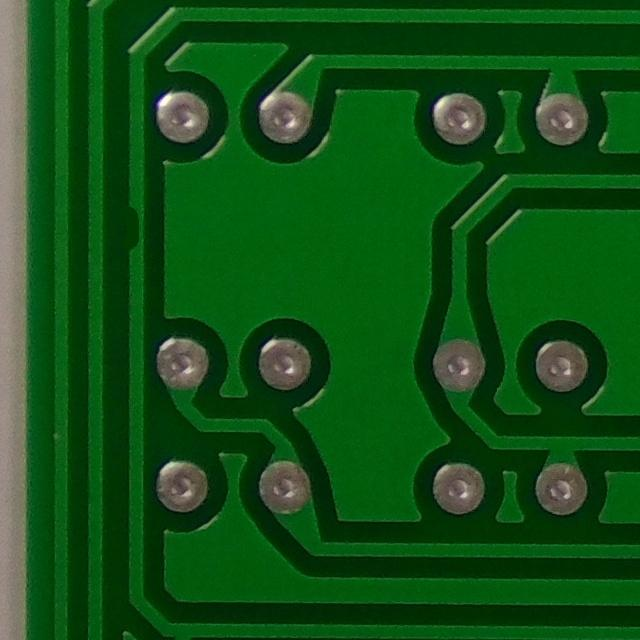mouse_bite: (111, 194, 157, 272)
